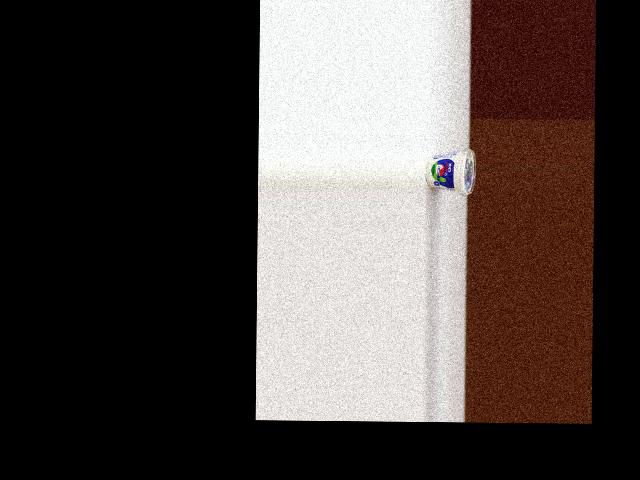cotage: (425, 146, 476, 195)
